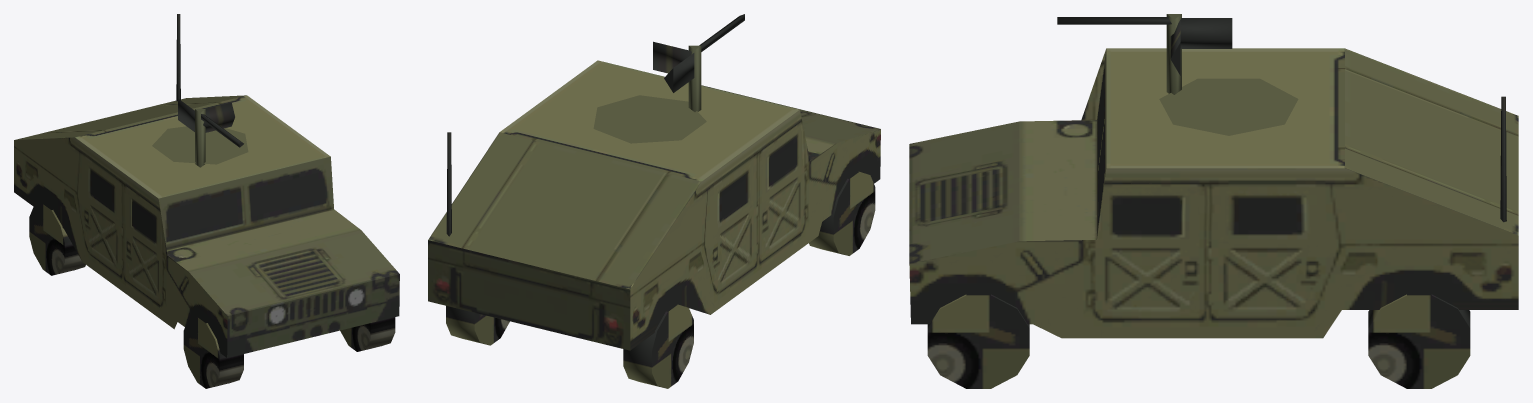
Rendered from Humvee_Turret.DAE.
3 renders of one model, left to right at view 1: azimuth 30°, elevation 25°; view 2: azimuth 150°, elevation 25°; view 3: azimuth 270°, elevation 25°, orthographic. The views are drawn at different scales.
Parts seen in each view (by area): view 1: _1092_Humvee_Turret; view 2: _1092_Humvee_Turret; view 3: _1092_Humvee_Turret.
Boxes of the visible parts, bbox=[...] form: _1092_Humvee_Turret: bbox=[14, 14, 399, 388]; _1092_Humvee_Turret: bbox=[428, 14, 880, 388]; _1092_Humvee_Turret: bbox=[909, 14, 1518, 388].
Size of the model in its own units: 91.73 by 104 by 193.
Materials: 1 (1 with a texture image).
